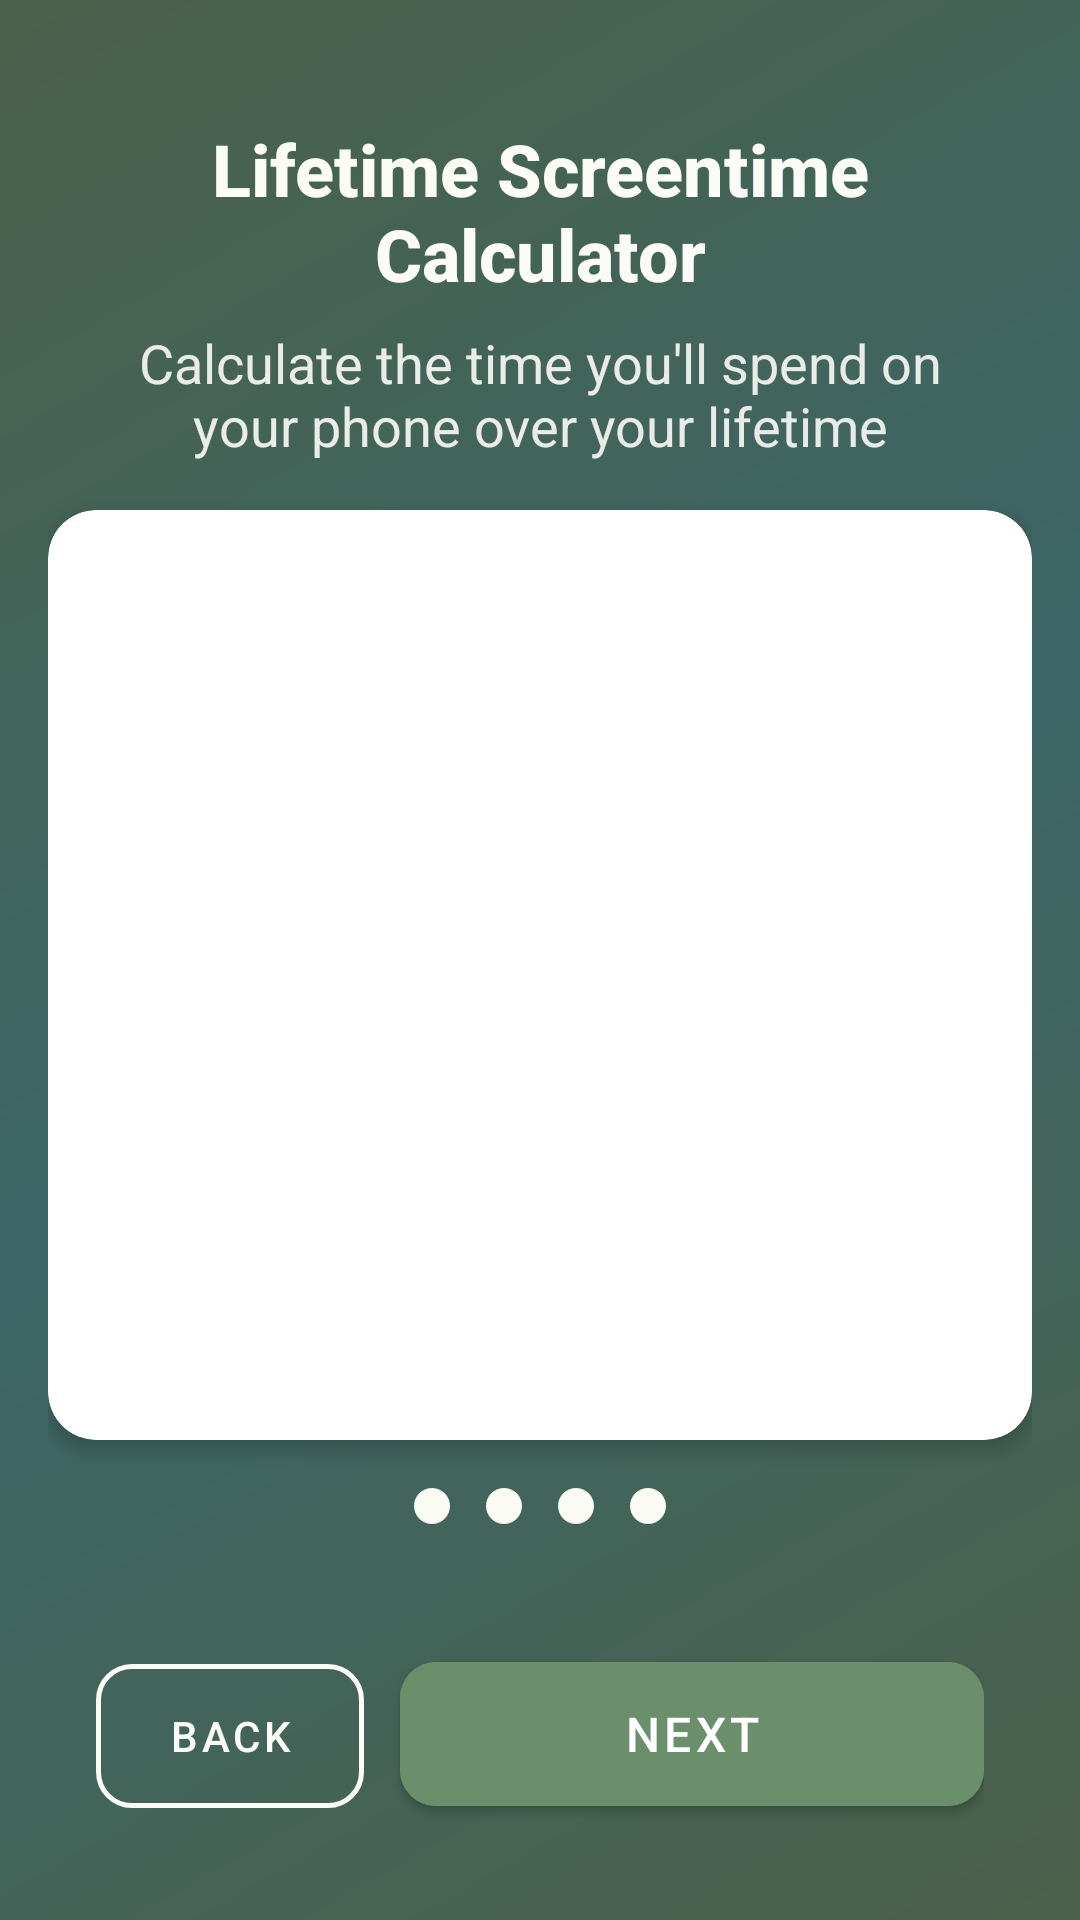

Point at icon controls on the screen. Image size 1080*1920, points as [x,y].
dot: [432,1506], [504,1506], [576,1506], [648,1506]
